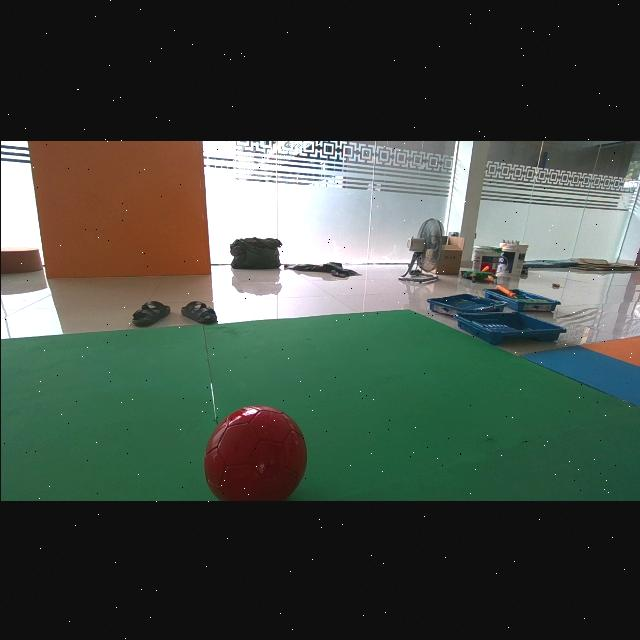R: (203, 405, 306, 500)
